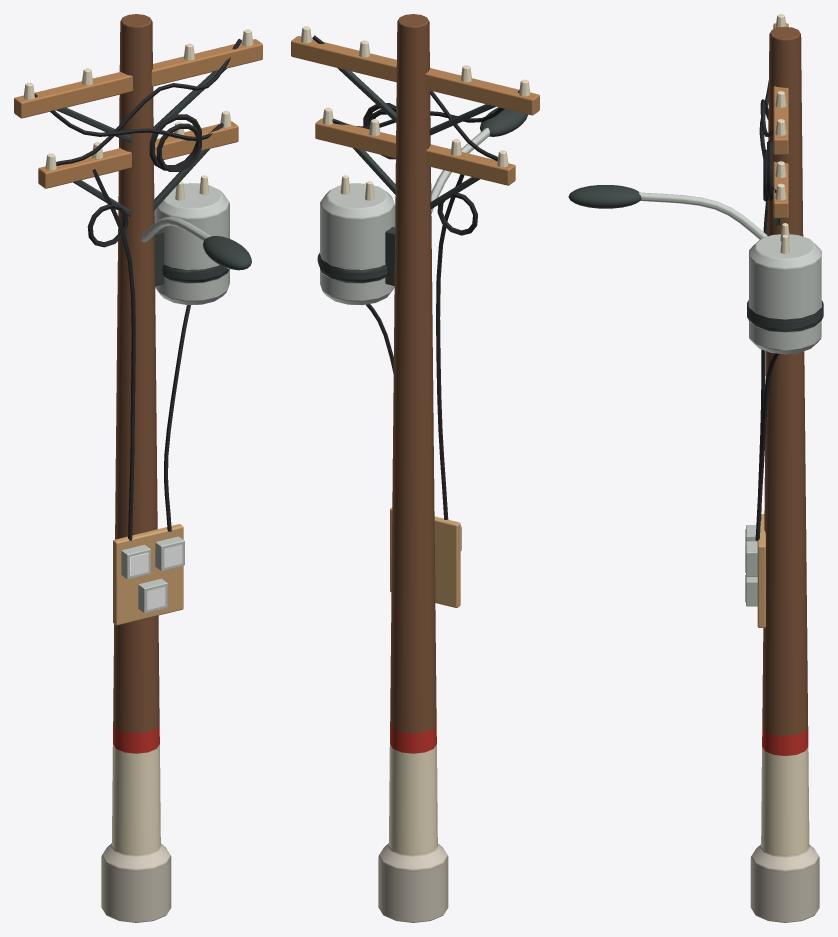
File: prop_poste.glb
The picture shows the model from 3 angles, left to right: view 1: azimuth 30°, elevation 25°; view 2: azimuth 150°, elevation 25°; view 3: azimuth 270°, elevation 25°; orthographic projection.
Parts seen in each view (by area): view 1: prop_poste; view 2: prop_poste; view 3: prop_poste.
Part boxes in pixels (x1,y1,x2,y2): prop_poste: (14,14,262,922); prop_poste: (291,14,539,922); prop_poste: (568,14,823,922).
Bounding box in the file's own units: 2 × 7 × 1.85.
